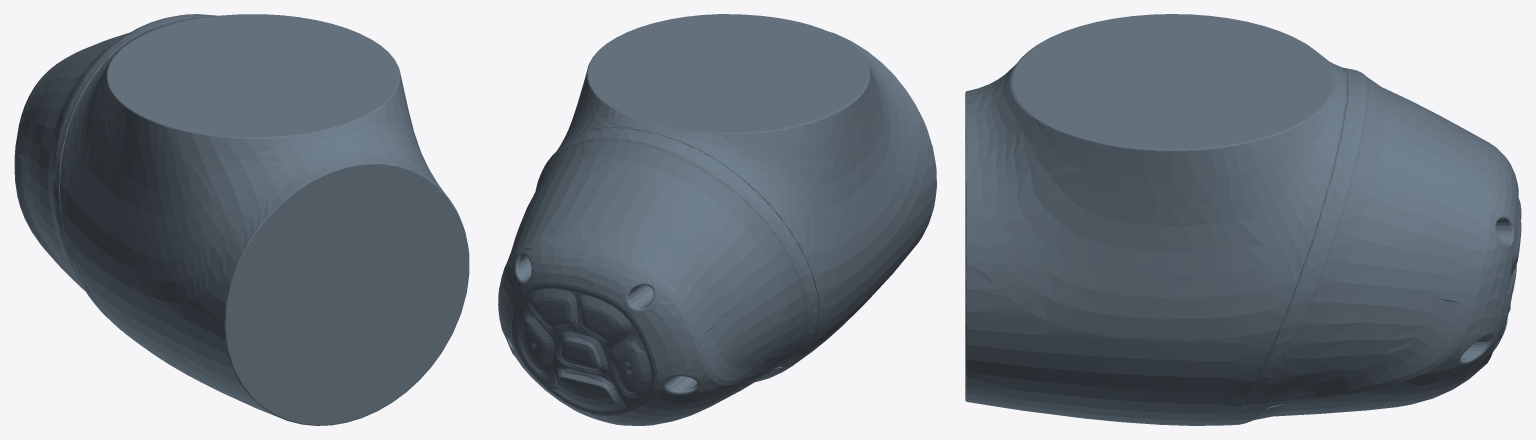
The picture shows the model from 3 angles, left to right: view 1: azimuth 30°, elevation 25°; view 2: azimuth 150°, elevation 25°; view 3: azimuth 270°, elevation 25°; orthographic projection. The views are drawn at different scales.
Visible parts, largest first — view 1: A0509_5_1; view 2: A0509_5_1; view 3: A0509_5_1.
Part boxes in pixels (left/top/right/bottom): A0509_5_1: left=14, top=14, right=469, bottom=425; A0509_5_1: left=498, top=14, right=936, bottom=425; A0509_5_1: left=965, top=14, right=1521, bottom=425.
Size of the model in its own units: 101 by 156 by 101.
